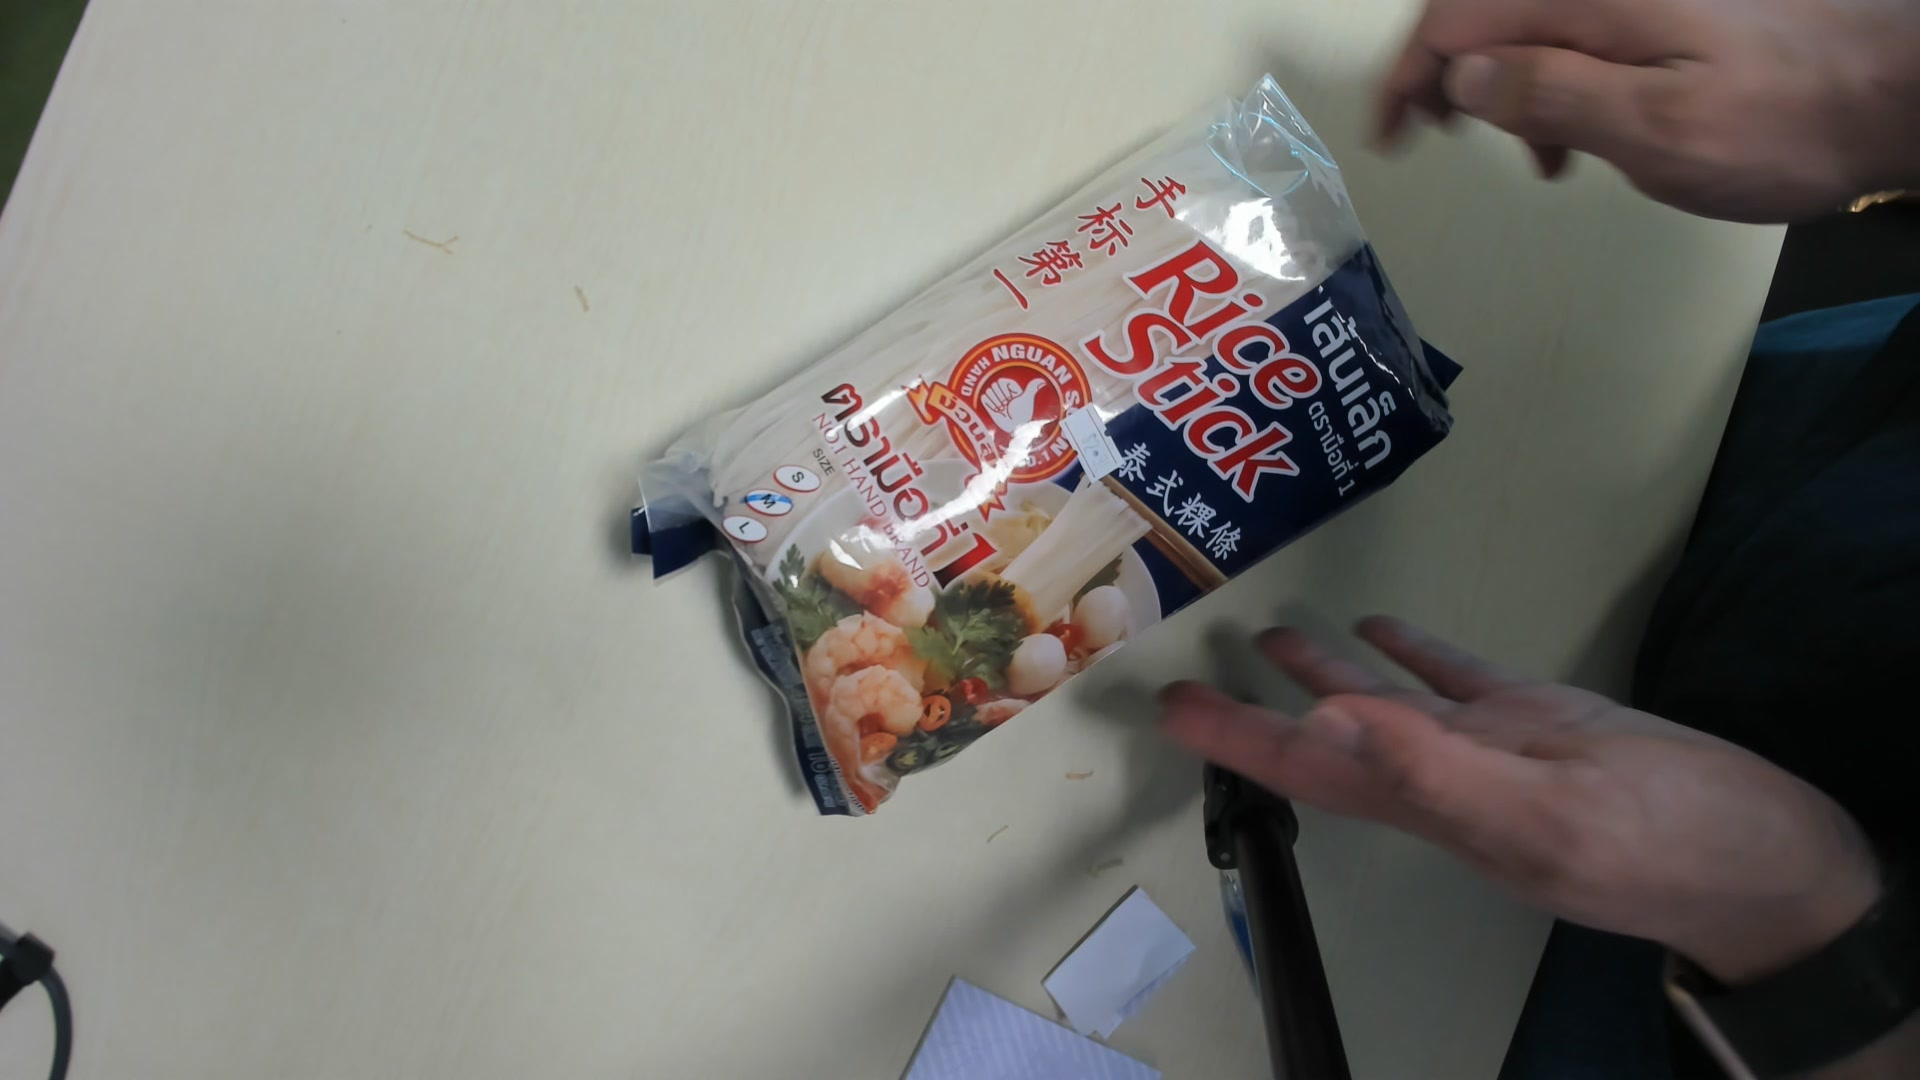OtherNoodles_400-499g_Halal_NonHealthy: (609, 92, 1453, 823)
